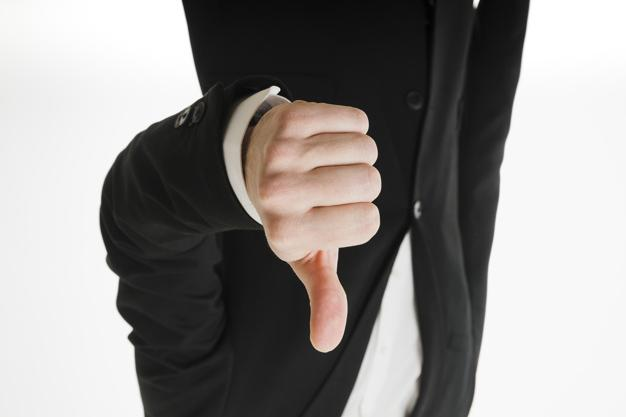thumbsdown: (256, 101, 382, 355)
